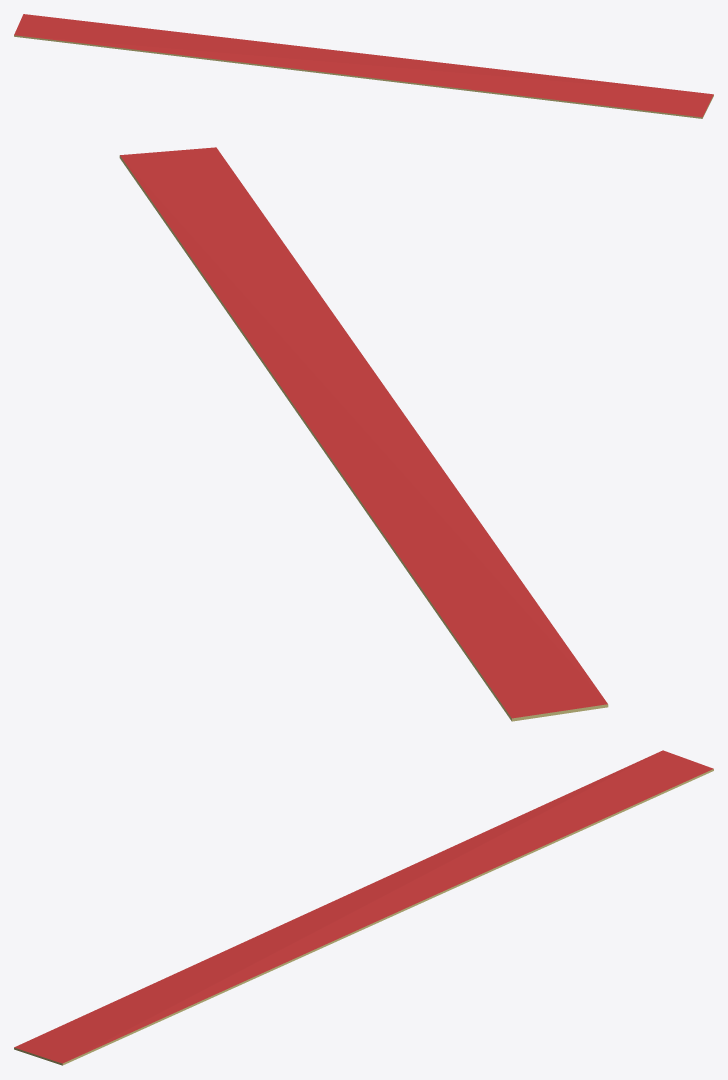
The picture shows the model from 3 angles, top to bottom: view 1: azimuth 30°, elevation 25°; view 2: azimuth 150°, elevation 25°; view 3: azimuth 270°, elevation 25°; orthographic projection. The views are drawn at different scales.
Parts seen in each view (by area): view 1: group_3, group_4; view 2: group_3, group_4; view 3: group_3, group_4.
Part boxes in pixels (left/top/right/bottom): group_3: left=14, top=14, right=713, bottom=117; group_4: left=14, top=35, right=713, bottom=118; group_3: left=120, top=147, right=607, bottom=718; group_4: left=119, top=155, right=608, bottom=721; group_3: left=14, top=750, right=713, bottom=1063; group_4: left=14, top=769, right=713, bottom=1065.
Bounding box in the file's own units: 31.55 × 30.76 × 0.726.
